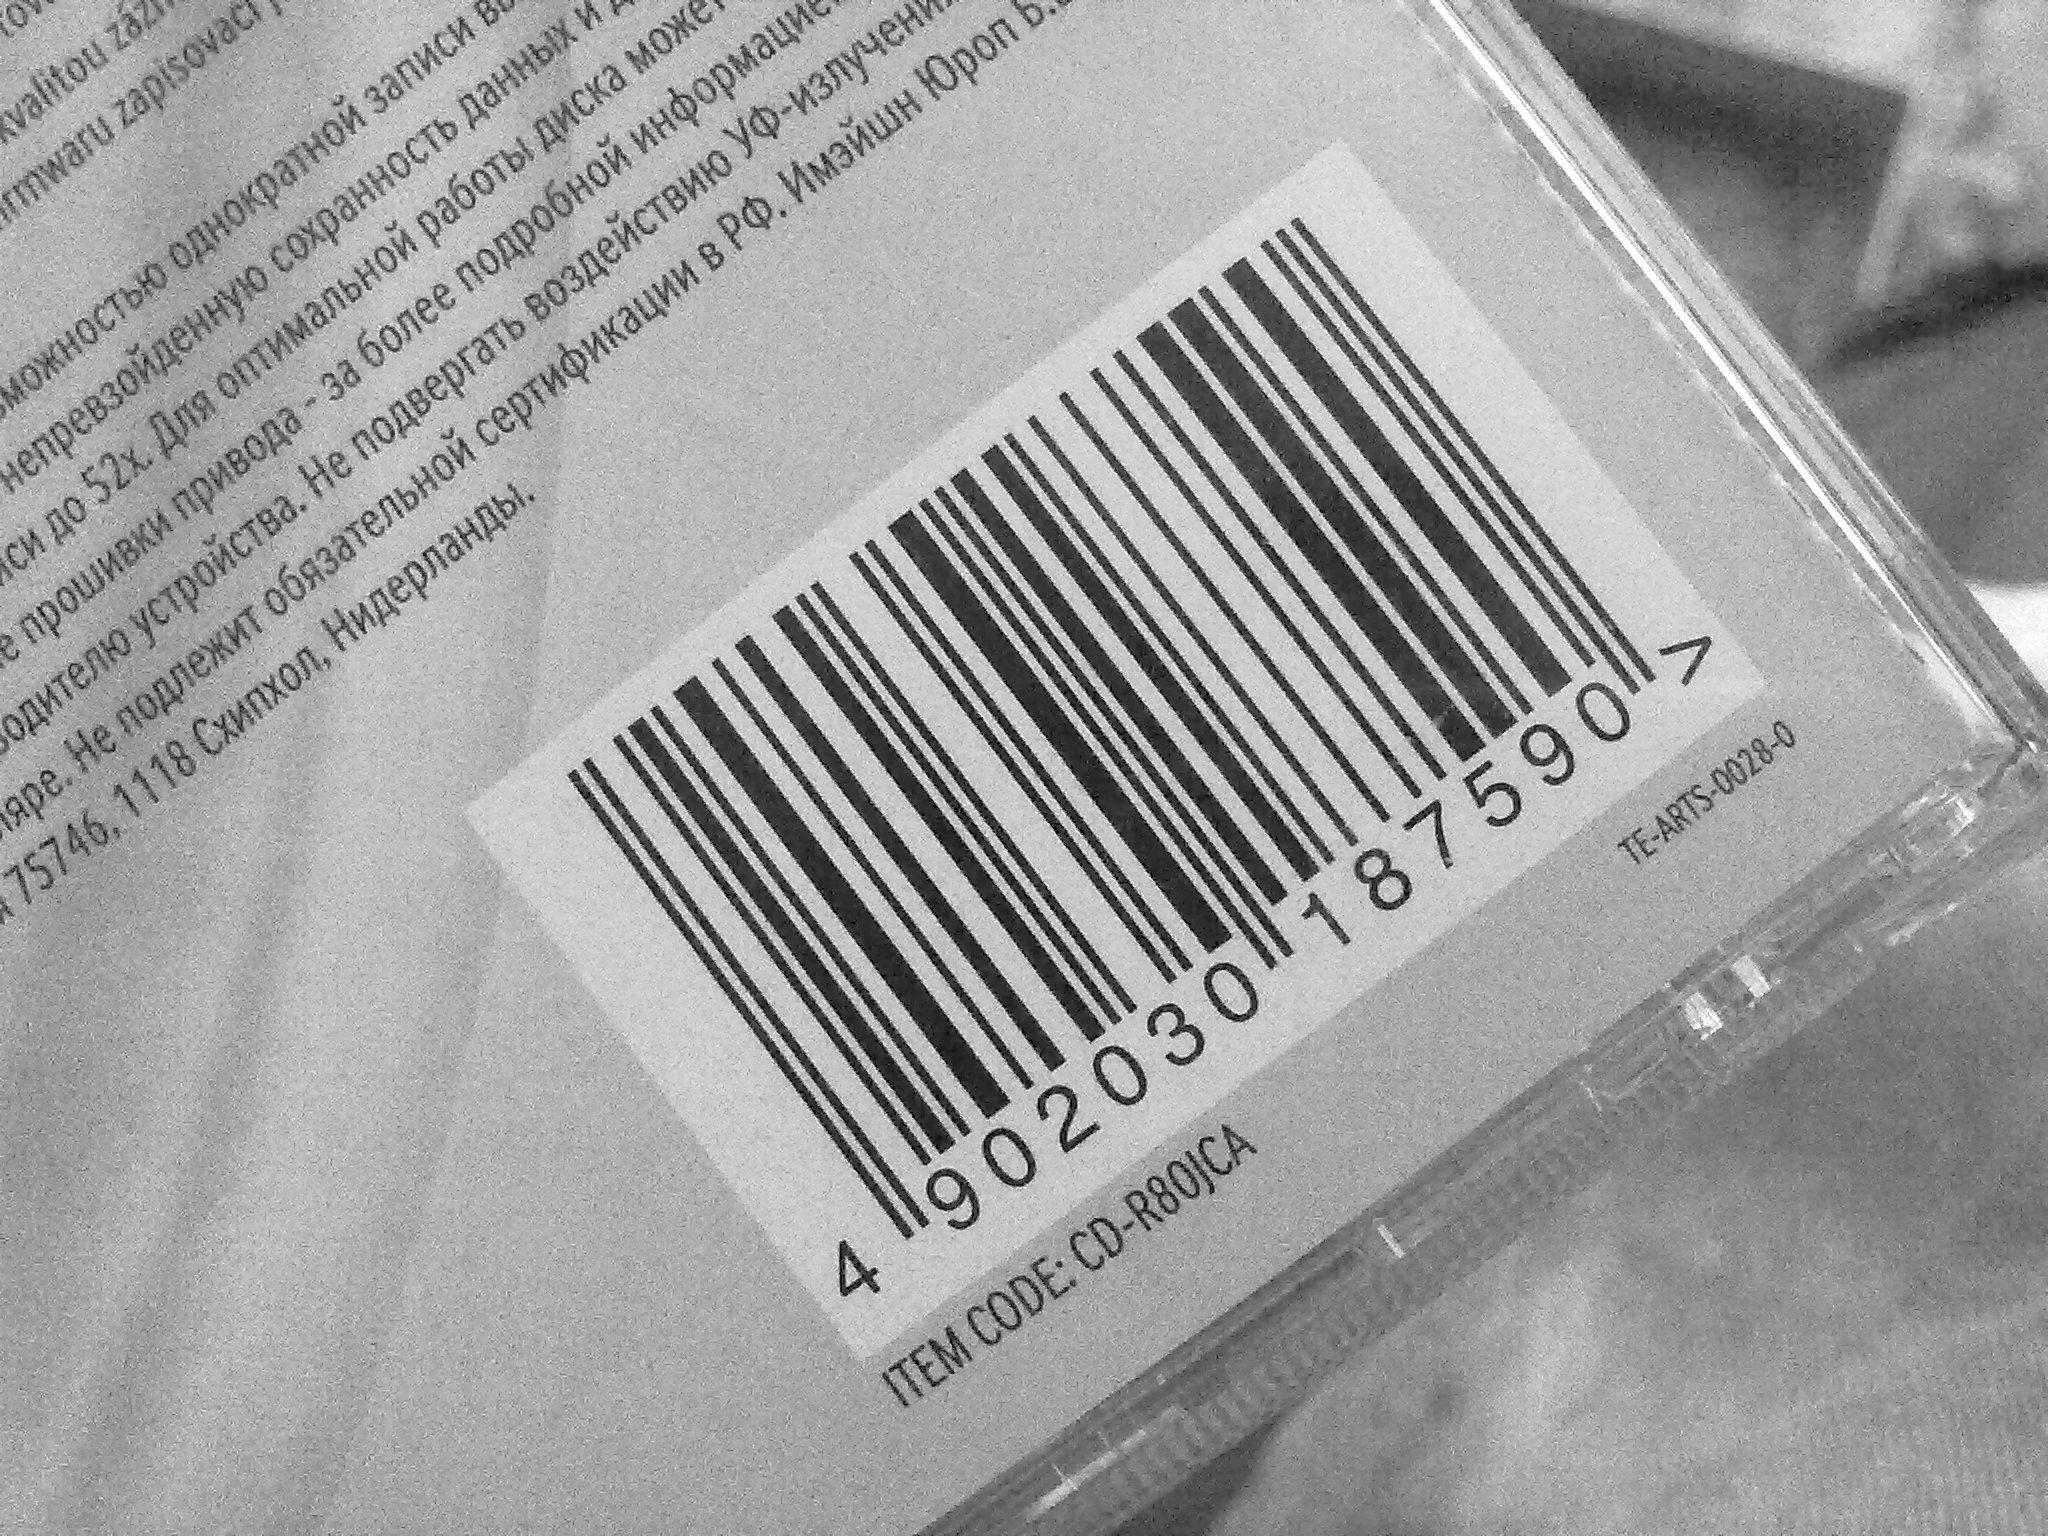Barcode: (535, 184, 1850, 1243)
